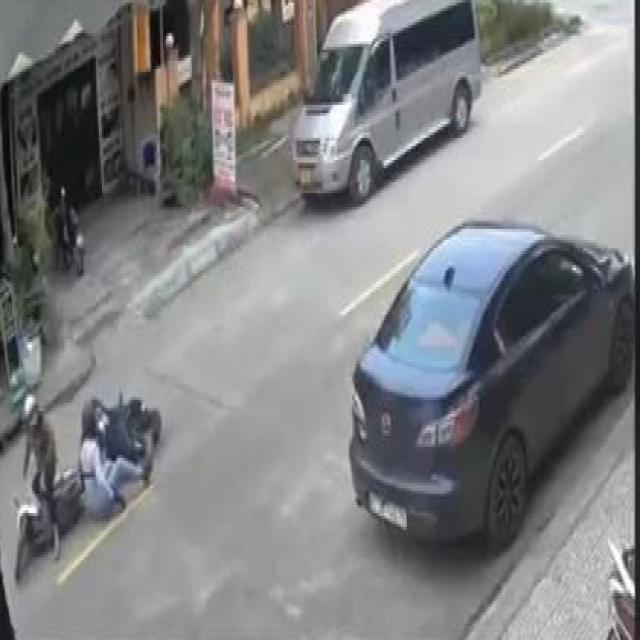accident: (8, 362, 166, 598)
